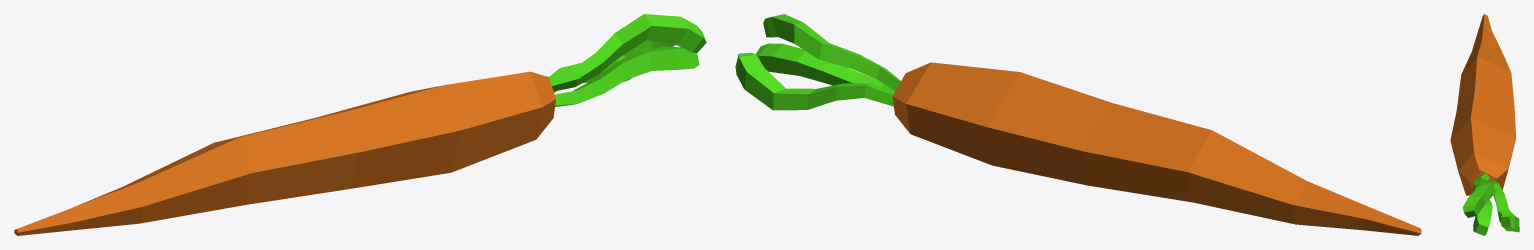
File: MESH_Carrot.fbx
3 views of the same model, side by side, from view 1: azimuth 30°, elevation 25°; view 2: azimuth 150°, elevation 25°; view 3: azimuth 270°, elevation 25° (orthographic). The views are drawn at different scales.
Parts seen in each view (by area): view 1: MESH_Carrot; view 2: MESH_Carrot; view 3: MESH_Carrot.
Boxes of the visible parts, <box> form: MESH_Carrot: <box>14,14,706,235</box>; MESH_Carrot: <box>735,14,1421,235</box>; MESH_Carrot: <box>1450,14,1519,235</box>.
Bounding box in the file's own units: 0.3721 × 0.0473 × 0.0489.
